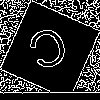C: (24, 24, 75, 81)
